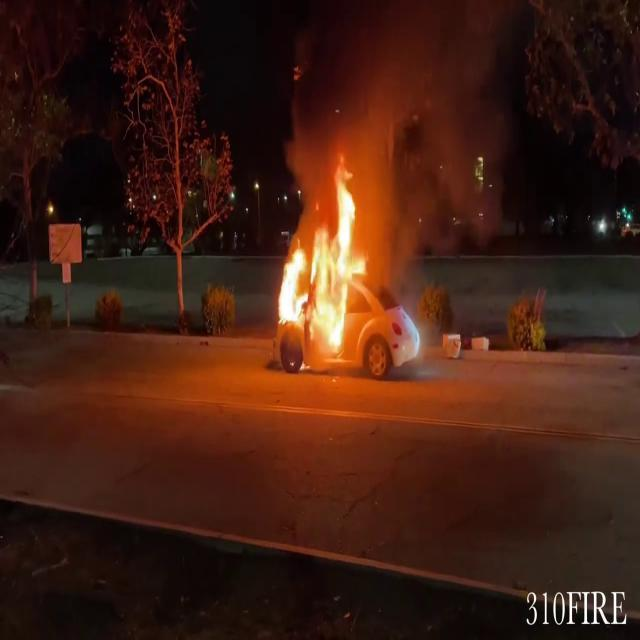Fire: (270, 160, 374, 354)
Smoke: (284, 1, 514, 220)
